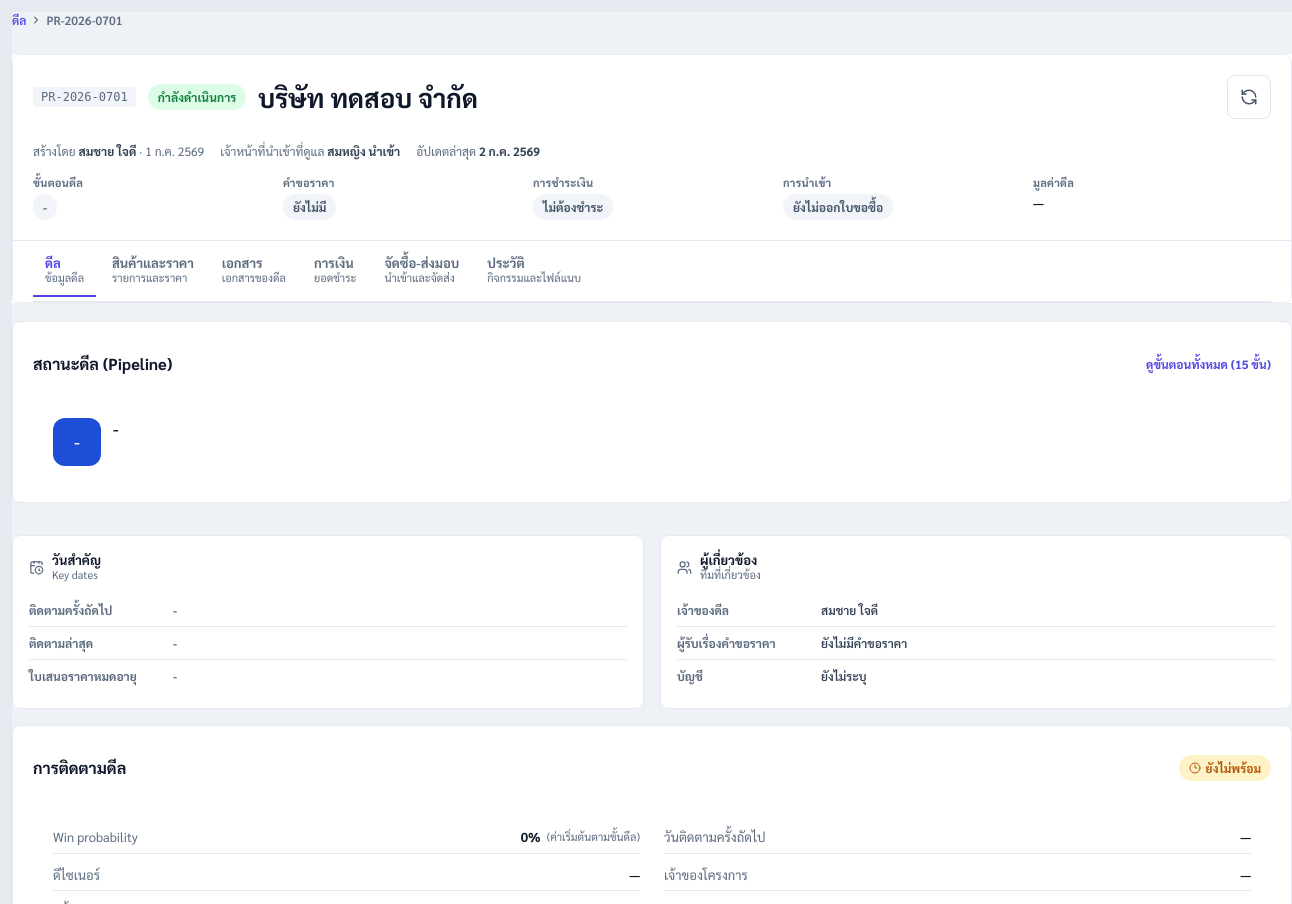
Test case: TicketDetailPage › items grid: read-only fallback to pricing-chain quotation items (B5 fix) › shows the fallback quotation items read-only, with the banner, and hides the edit button
Click the tab "สินค้าและราคา รายการและราคา" at [153, 271], box x1=100 y1=245 x2=206 y2=297
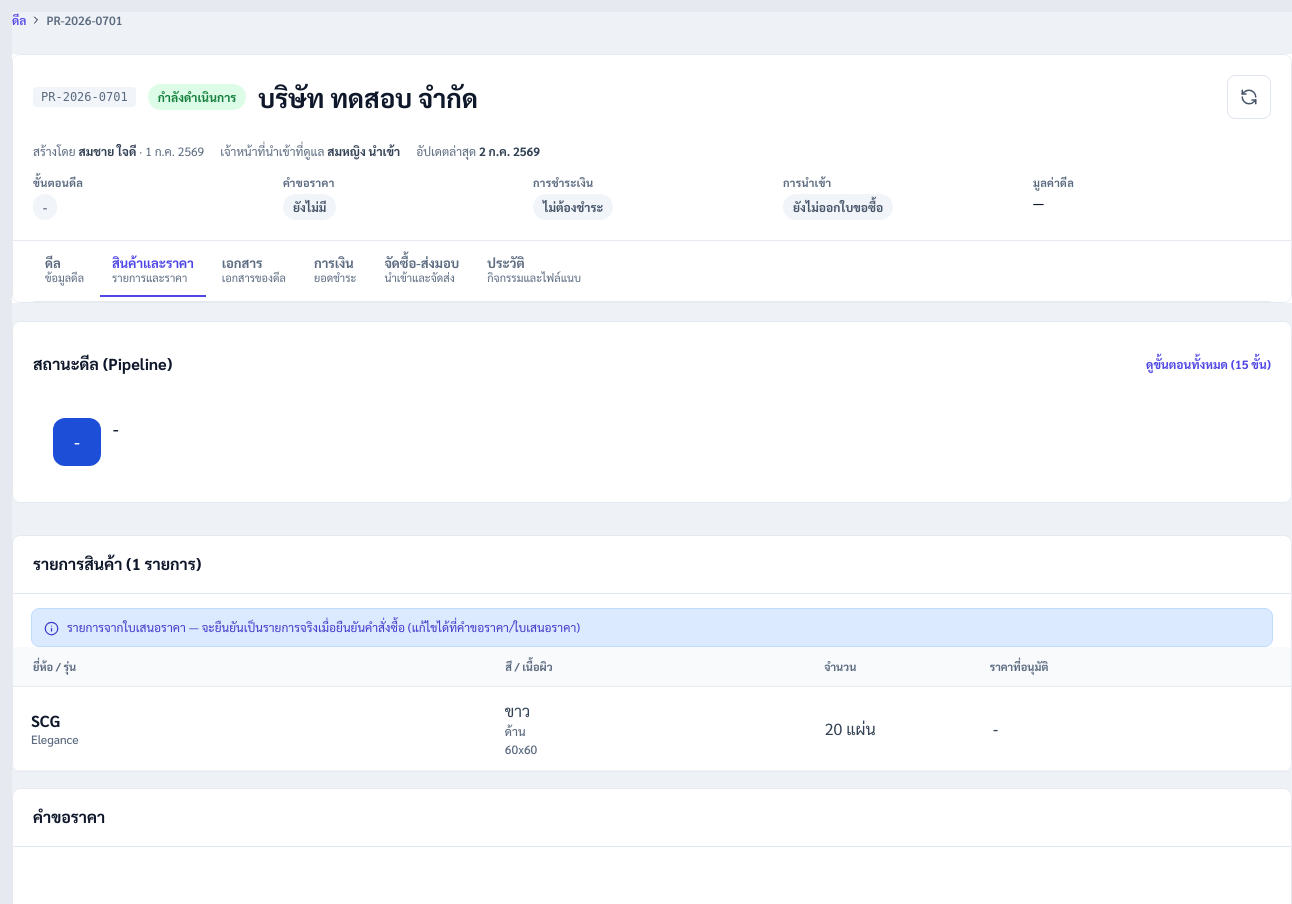
Result: the heading "รายการสินค้า (1 รายการ)" is shown at x1=33 y1=552 x2=201 y2=577
Result: the text "SCG" is shown at x1=31 y1=710 x2=60 y2=731
Result: the text "Elegance" is shown at x1=31 y1=731 x2=79 y2=747
